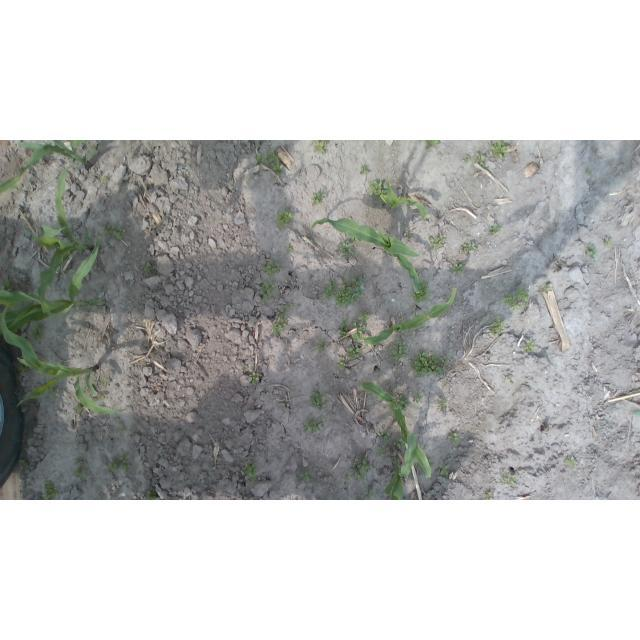Maize: (4, 162, 101, 325), (0, 301, 122, 416), (1, 225, 102, 339), (312, 217, 424, 295), (357, 381, 433, 479), (351, 286, 457, 346), (2, 142, 91, 194), (382, 430, 418, 499), (381, 180, 430, 221)
Weeds: (377, 430, 407, 476), (326, 276, 365, 306), (333, 313, 367, 342), (411, 352, 450, 377), (253, 151, 283, 174), (271, 306, 292, 336), (395, 392, 424, 413), (505, 289, 530, 312), (101, 220, 127, 240), (490, 141, 513, 160), (106, 455, 130, 473), (462, 152, 487, 169), (351, 459, 371, 480), (303, 416, 325, 435), (239, 365, 259, 385), (72, 458, 89, 481), (370, 179, 387, 200), (260, 282, 276, 303), (335, 241, 353, 259), (40, 479, 56, 499), (309, 392, 327, 409), (262, 260, 280, 277), (278, 209, 293, 229), (310, 190, 327, 206), (428, 234, 445, 250), (393, 341, 406, 361), (245, 462, 260, 478), (311, 140, 329, 153), (459, 242, 477, 255), (142, 262, 155, 278), (489, 321, 503, 335), (348, 344, 361, 359), (296, 470, 310, 483), (452, 261, 465, 274), (502, 471, 514, 485), (437, 398, 449, 411), (525, 339, 536, 353), (587, 246, 598, 260), (424, 141, 442, 149), (448, 431, 459, 444), (336, 360, 347, 372), (440, 462, 449, 476), (490, 224, 501, 235), (565, 456, 576, 467), (317, 342, 326, 353), (361, 166, 369, 174), (603, 238, 610, 247)
